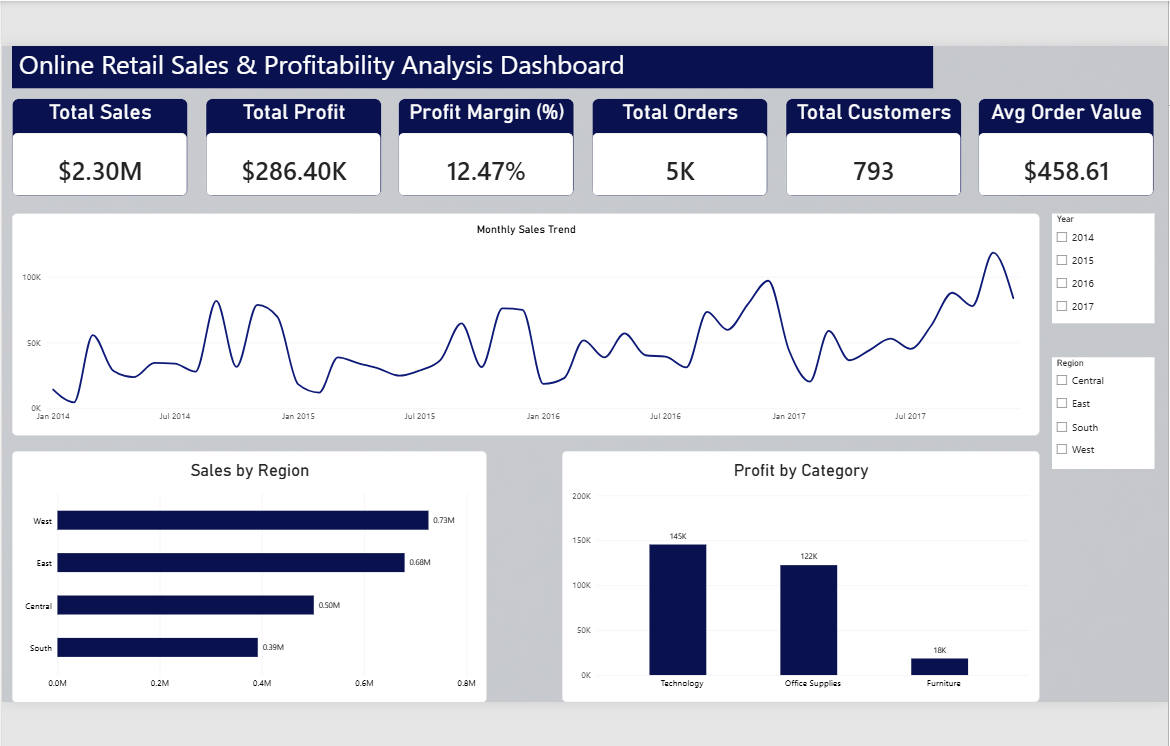

Layout of this report page (visuals, bound fields, positions):
{"tool":"powerbi","page":{"name":"Page 1","canvas":[1920,1080],"ordinal":0},"visuals":[{"type":"cardVisual","title":"Total Sales","fields":{"Data":["Online Retail Sales.Total Sales"]},"box":[16.5,86.4,289.5,161.1],"z":0},{"type":"cardVisual","title":"Total Profit","fields":{"Data":["Online Retail Sales.Total Profit"]},"box":[334.8,86.9,289.5,161.1],"z":1000},{"type":"cardVisual","title":"Profit Margin (%)","fields":{"Data":["Online Retail Sales.Profit Margin %"]},"box":[653.3,86.9,289.5,161.1],"z":2000},{"type":"cardVisual","title":"Total Orders","fields":{"Data":["Online Retail Sales.Total Orders"]},"box":[971.8,86.9,289.5,161.1],"z":3000},{"type":"cardVisual","title":"Total Customers","fields":{"Data":["Online Retail Sales.Total Customers"]},"box":[1290.3,86.9,289.5,161.1],"z":4000},{"type":"cardVisual","title":"Avg Order Value","fields":{"Data":["Online Retail Sales.Average Order Value"]},"box":[1607,86.9,289.5,161.1],"z":6000},{"type":"lineChart","title":"Monthly Sales Trend ","fields":{"Y":["Online Retail Sales.Total Sales"],"Category":["Calendar.Date.Variation.Date Hierarchy.Year","Calendar.Date.Variation.Date Hierarchy.Quarter","Calendar.Date.Variation.Date Hierarchy.Month"]},"box":[16.3,275.1,1692,365.6],"z":7000},{"type":"clusteredBarChart","title":"Sales by Region ","fields":{"Category":["Online Retail Sales.Region"],"Y":["Online Retail Sales.Total Sales"]},"box":[16.3,666,781.8,414.4],"z":8000},{"type":"columnChart","title":"Profit by Category","fields":{"Category":["Online Retail Sales.Category"],"Y":["Online Retail Sales.Total Profit"]},"box":[922.1,666.9,786.3,413.7],"z":9000},{"type":"textbox","box":[16.5,0,1517,70],"z":10000},{"type":"slicer","fields":{"Values":["Calendar.Year"]},"box":[1729,275.8,168.8,181.1],"z":11000},{"type":"slicer","fields":{"Values":["Online Retail Sales.Region"]},"box":[1729,512.5,169,184],"z":12000}]}

Visuals, with their boxes on the page's 1920x1080 design canvas (x1, y1, x2, y2). These are canvas units, not pixel positions in the 1170x746 screenshot, which may show the page scaled, cropped or inside an application window:
"Total Sales" cardVisual: x1=16, y1=86, x2=306, y2=248
"Total Profit" cardVisual: x1=335, y1=87, x2=624, y2=248
"Profit Margin (%)" cardVisual: x1=653, y1=87, x2=943, y2=248
"Total Orders" cardVisual: x1=972, y1=87, x2=1261, y2=248
"Total Customers" cardVisual: x1=1290, y1=87, x2=1580, y2=248
"Avg Order Value" cardVisual: x1=1607, y1=87, x2=1896, y2=248
"Monthly Sales Trend " lineChart: x1=16, y1=275, x2=1708, y2=641
"Sales by Region " clusteredBarChart: x1=16, y1=666, x2=798, y2=1080
"Profit by Category" columnChart: x1=922, y1=667, x2=1708, y2=1081
textbox: x1=16, y1=0, x2=1534, y2=70
slicer - Calendar.Year: x1=1729, y1=276, x2=1898, y2=457
slicer - Online Retail Sales.Region: x1=1729, y1=512, x2=1898, y2=696
